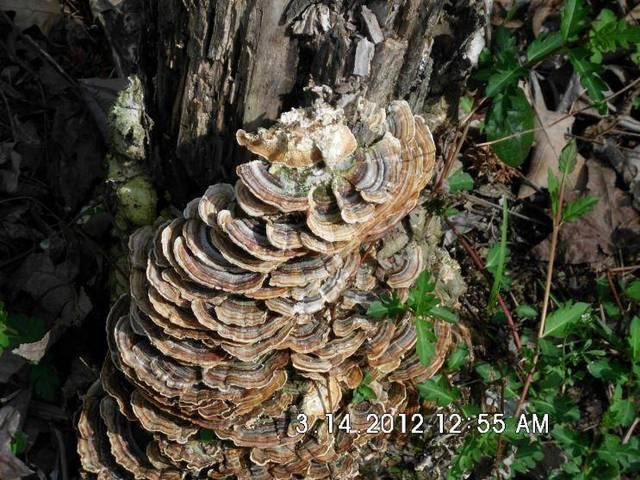Non-edible Mushroom: (75, 85, 467, 478)
